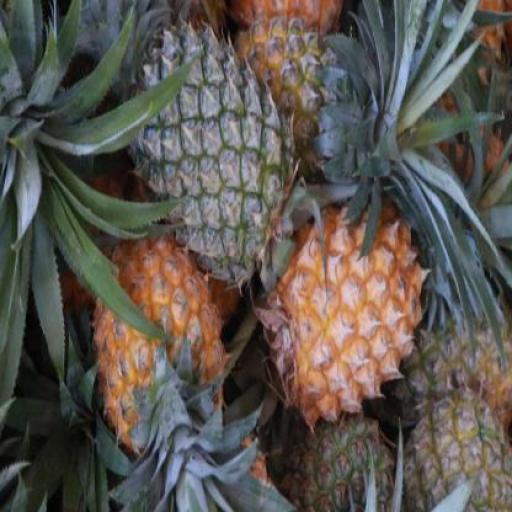Pineapple - v8 v1: (268, 211, 434, 440), (93, 242, 232, 462)
